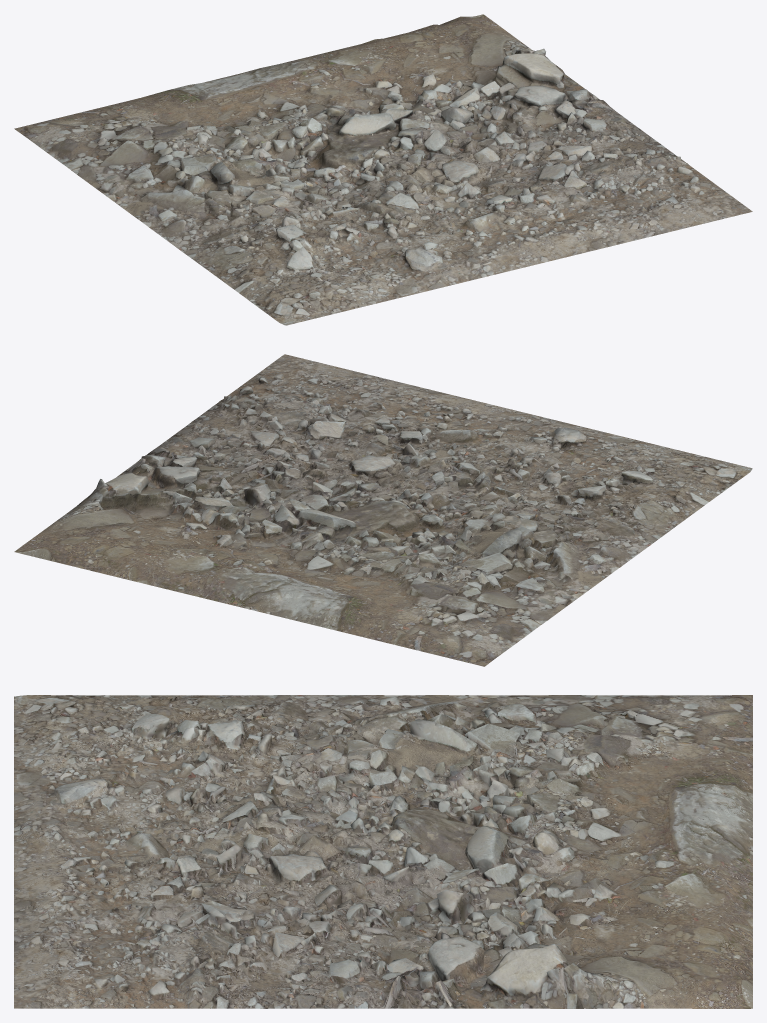
The model's file is sm_Ground_01_02.fbx.
3 renders of one model, top to bottom at view 1: azimuth 30°, elevation 25°; view 2: azimuth 150°, elevation 25°; view 3: azimuth 270°, elevation 25°, orthographic. The views are drawn at different scales.
Visible parts, largest first — view 1: sm_Ground_01_02_LOD0; view 2: sm_Ground_01_02_LOD0; view 3: sm_Ground_01_02_LOD0.
Part boxes in pixels (bbox=[...]): sm_Ground_01_02_LOD0: bbox=[14, 14, 752, 325]; sm_Ground_01_02_LOD0: bbox=[14, 354, 752, 666]; sm_Ground_01_02_LOD0: bbox=[14, 695, 752, 1008].
Bounding box in the file's own units: 319 × 317 × 18.34.
